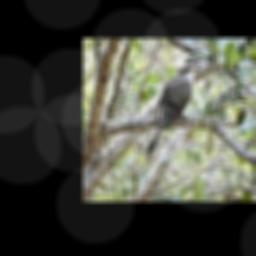Cuckoo: (146, 66, 198, 158)
